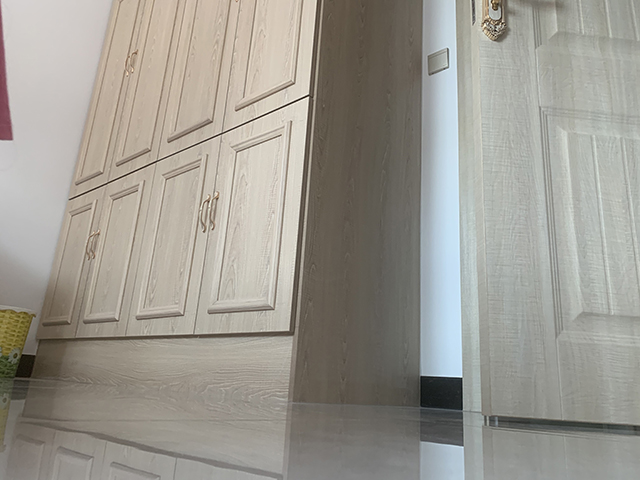cabinet: (29, 1, 423, 408)
trashcan: (1, 306, 37, 379)
